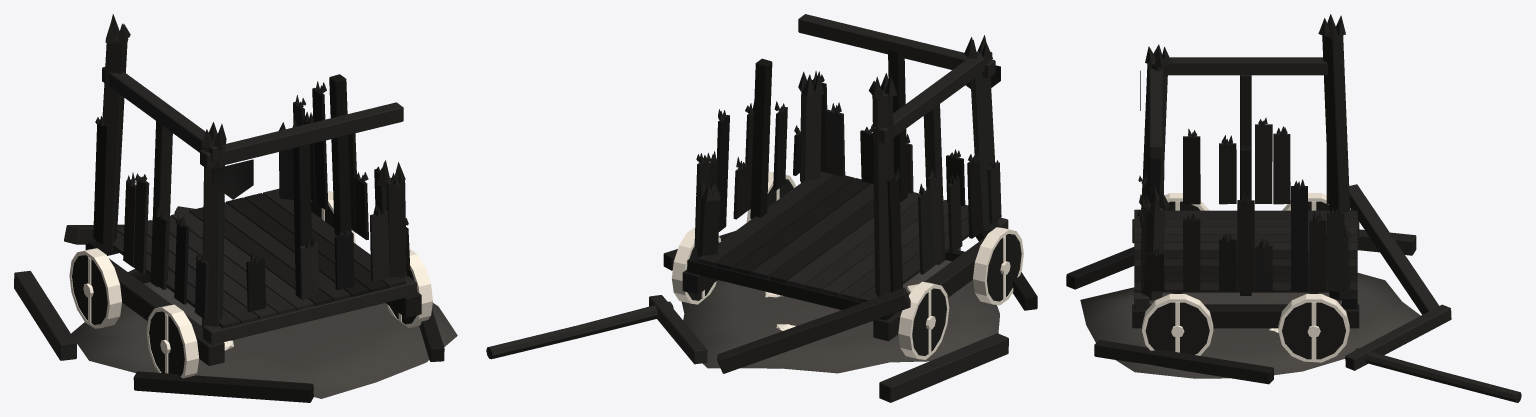
File: SM_VKI_Prop_Siege_Tower_Burnt.fbx
The picture shows the model from 3 angles, left to right: view 1: azimuth 30°, elevation 25°; view 2: azimuth 150°, elevation 25°; view 3: azimuth 270°, elevation 25°; orthographic projection. The views are drawn at different scales.
Parts seen in each view (by area): view 1: SM_VKI_Prop_Siege_Tower_Burnt.001; view 2: SM_VKI_Prop_Siege_Tower_Burnt.001; view 3: SM_VKI_Prop_Siege_Tower_Burnt.001.
Part boxes in pixels (box(x1,y1,x2,y2)): SM_VKI_Prop_Siege_Tower_Burnt.001: box(14, 14, 457, 402); SM_VKI_Prop_Siege_Tower_Burnt.001: box(486, 14, 1037, 402); SM_VKI_Prop_Siege_Tower_Burnt.001: box(1066, 14, 1521, 402).
Size of the model in its own units: 6.29 by 4.42 by 7.02.
